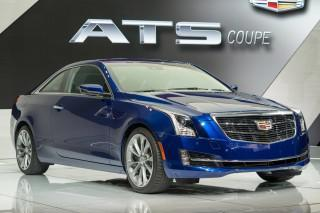cadillac: (252, 116, 276, 133)
